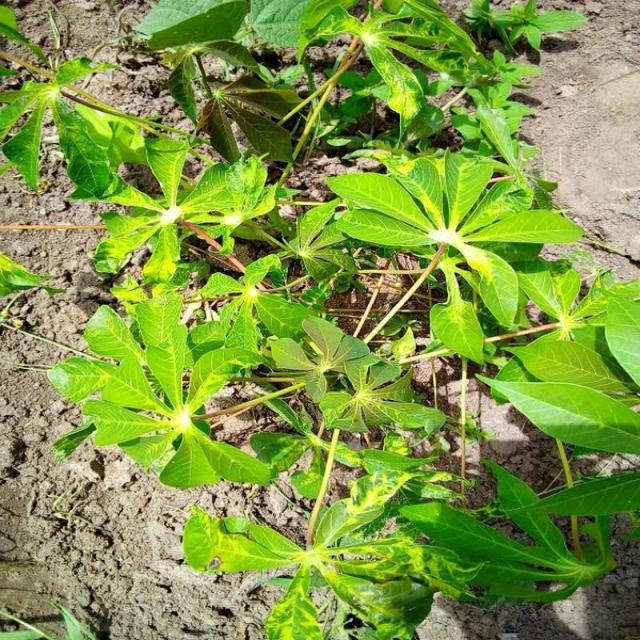cassava leaf: (4, 1, 639, 637), (326, 146, 584, 364)
